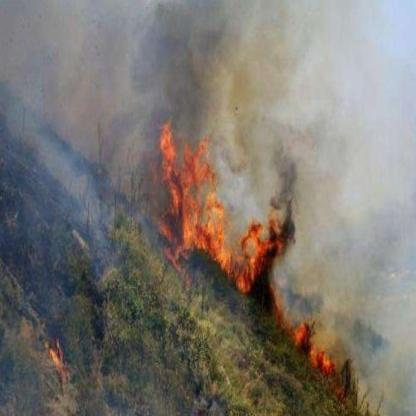fire: (158, 121, 342, 377), (50, 340, 65, 384)
